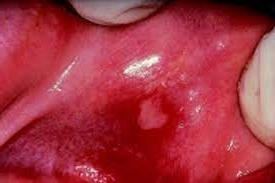Ulcer: (138, 93, 165, 132)
